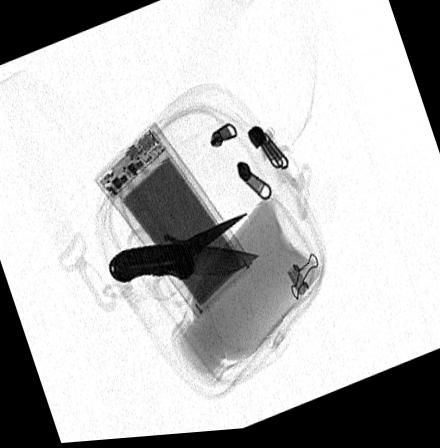Knife: (104, 244, 265, 288)
Powerbank: (94, 119, 255, 326)
Scissors: (129, 218, 249, 306)
